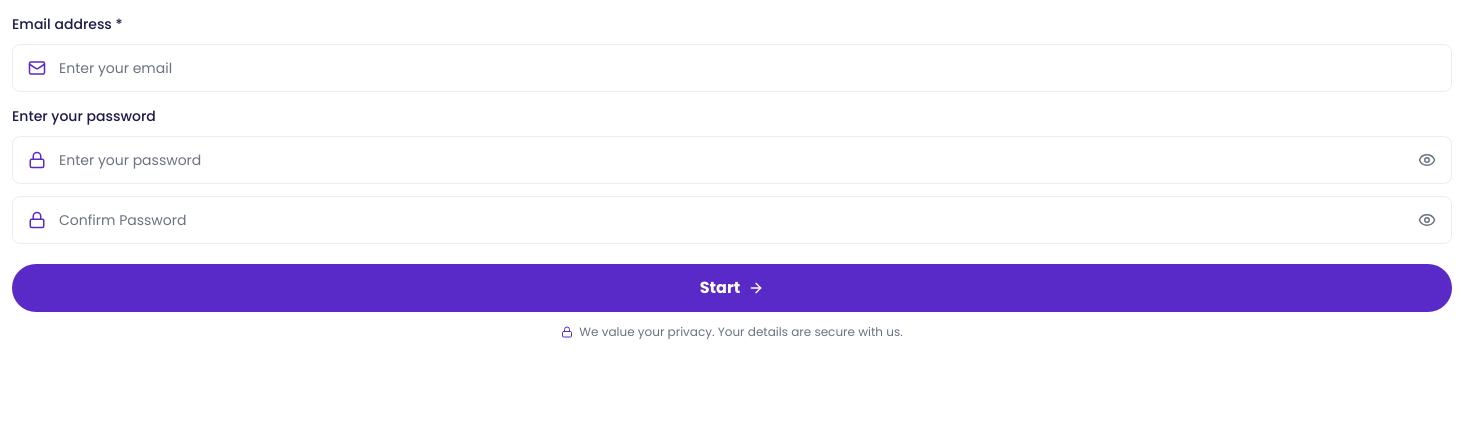
Test: SetPasswordForm — password rules checklist › stays hidden until the password field is focused, then hides again on blur
Expected: the text "8 character minimum" is not shown
Click the password field labelled "Enter your password": click(732, 160) 12,136 -> 1452,184
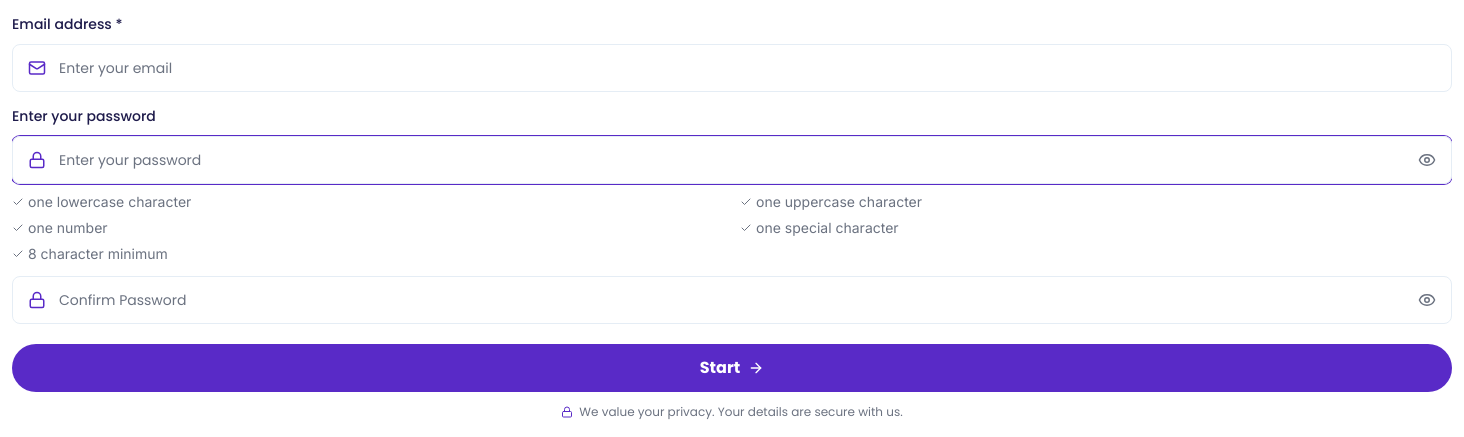
Now the text "8 character minimum" is shown, box 12,245 -> 168,262
Focus something else in the form — the rules are no longer relevant.
Click the field labelled "Email address *": click(732, 68) 12,44 -> 1452,92
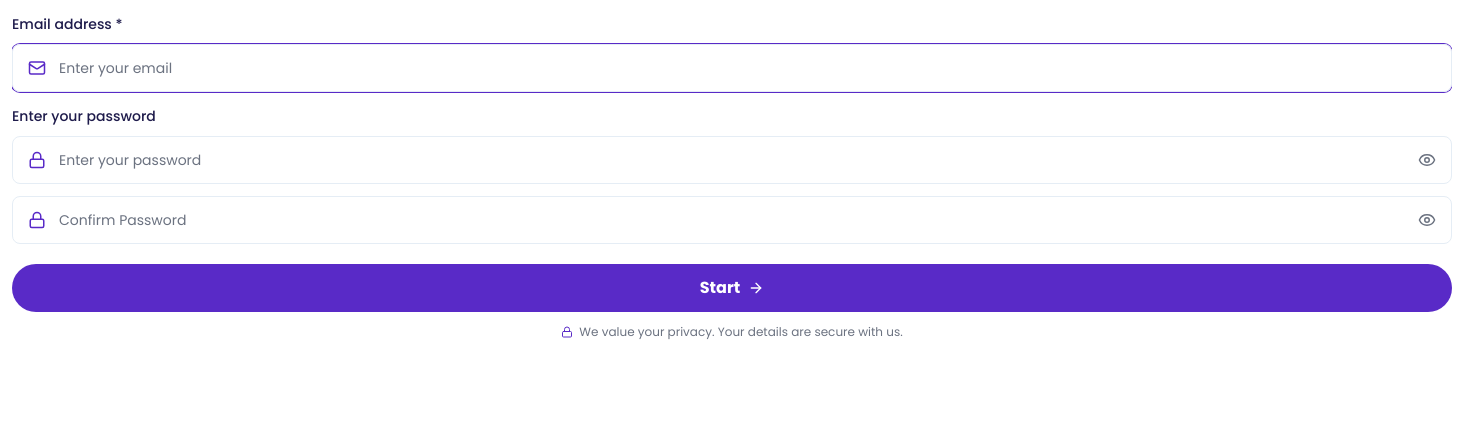
Now the text "8 character minimum" is gone
